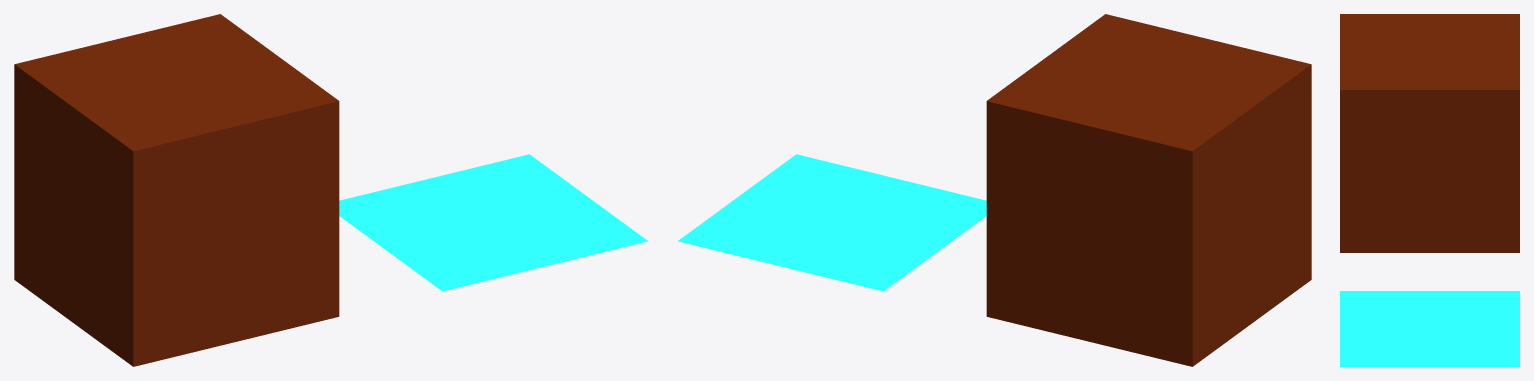
Rendered from export.palette.glb.
The picture shows the model from 3 angles, left to right: view 1: azimuth 30°, elevation 25°; view 2: azimuth 150°, elevation 25°; view 3: azimuth 270°, elevation 25°; orthographic projection. The views are drawn at different scales.
Visible parts, largest first — view 1: VW.red.001, VW.blue.001; view 2: VW.red.001, VW.blue.001; view 3: VW.red.001, VW.blue.001.
Part boxes in pixels (x1=…): VW.red.001: x1=14, y1=14, x2=339, y2=366; VW.blue.001: x1=339, y1=154, x2=647, y2=291; VW.red.001: x1=986, y1=14, x2=1311, y2=366; VW.blue.001: x1=678, y1=154, x2=986, y2=291; VW.red.001: x1=1340, y1=14, x2=1519, y2=252; VW.blue.001: x1=1340, y1=291, x2=1519, y2=366.
Bounding box in the file's own units: 2.5 × 1 × 1.
2 materials, 2 textured.
